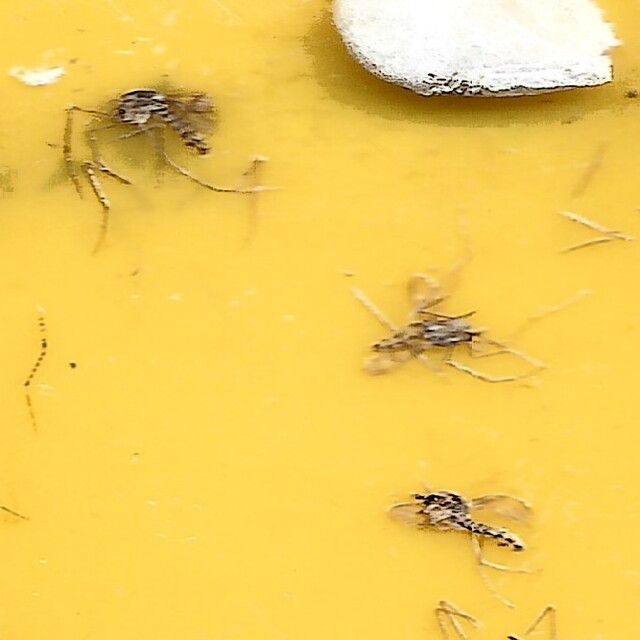Nematocera: (358, 274, 522, 388), (385, 483, 536, 559), (104, 81, 222, 165)
